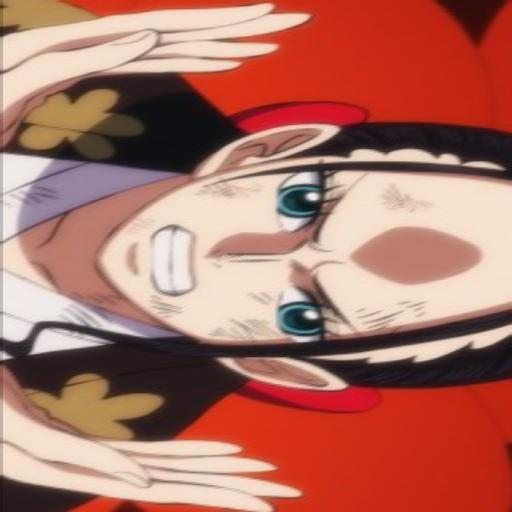NicoRobin: (79, 112, 512, 425)
